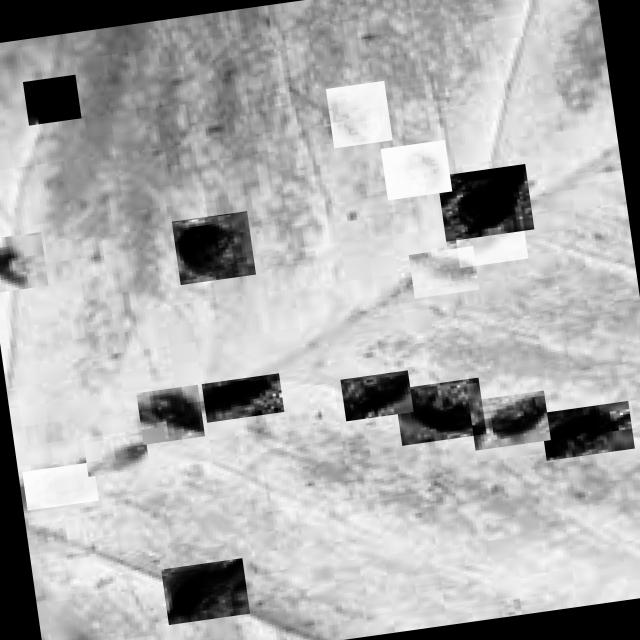scale_insect: (437, 163, 534, 241), (394, 376, 486, 444), (172, 210, 256, 284), (161, 557, 250, 624), (540, 400, 635, 460), (468, 390, 550, 450), (326, 80, 392, 148), (380, 138, 452, 200), (136, 383, 205, 443), (202, 372, 284, 422), (454, 213, 528, 267), (22, 461, 98, 510), (341, 369, 414, 420), (409, 245, 479, 298), (22, 74, 82, 124), (0, 231, 48, 291), (84, 434, 150, 476)
